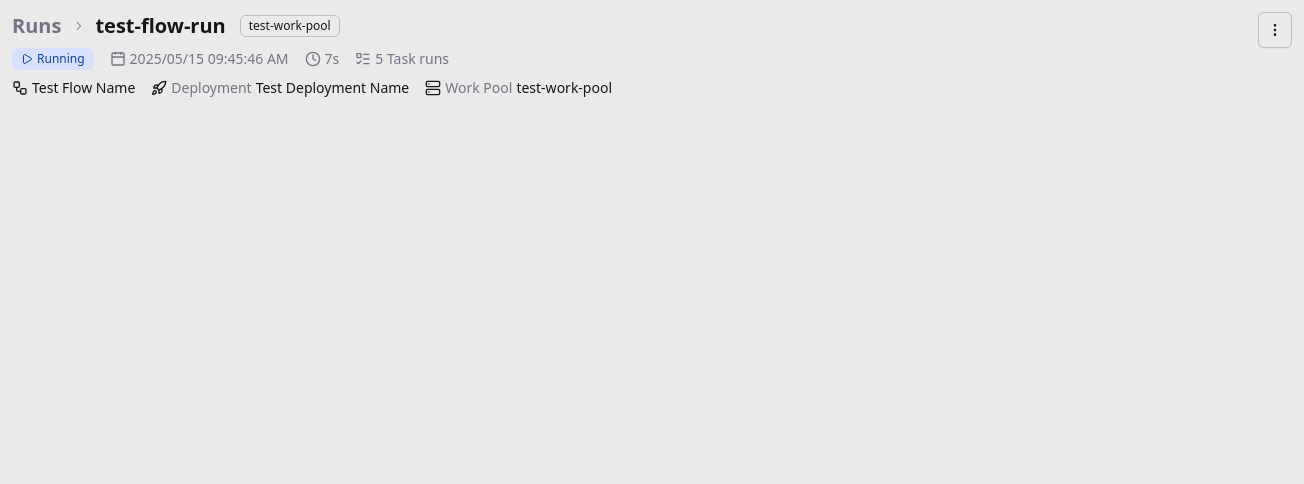
Test case: FlowRunHeader › does not show 'Change state' option for non-terminal states
Expected: the text "test-flow-run" is shown, x1=95 y1=12 x2=226 y2=40
Click the button: (1275, 30) x1=1258 y1=12 x2=1292 y2=48
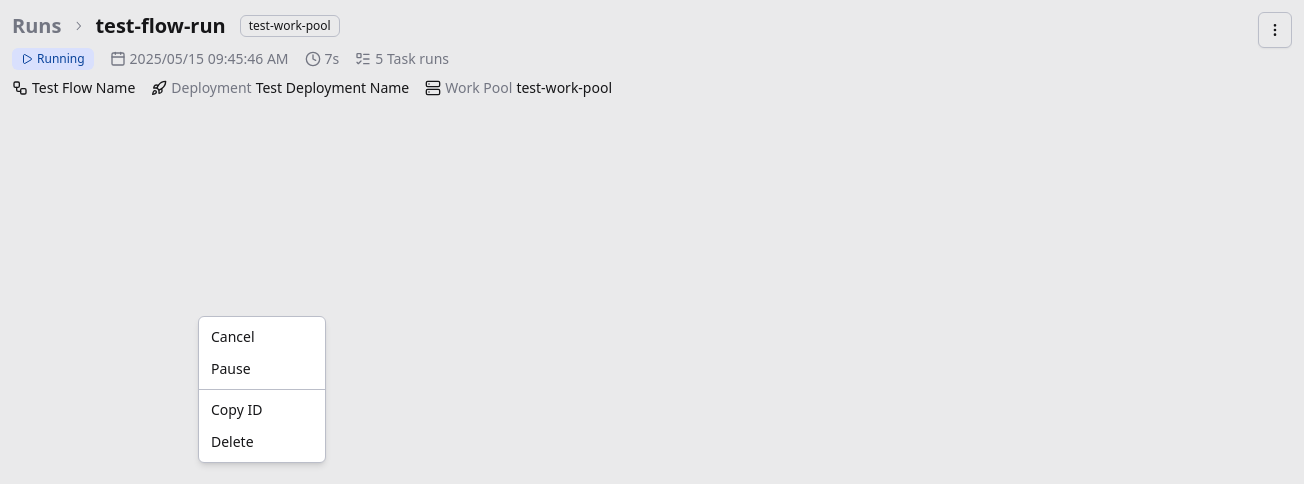
Expected: the menu item "Copy ID" is shown, x1=211 y1=400 x2=262 y2=419
